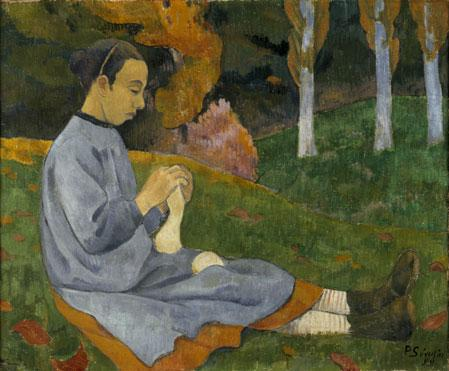person: (42, 41, 428, 351)
